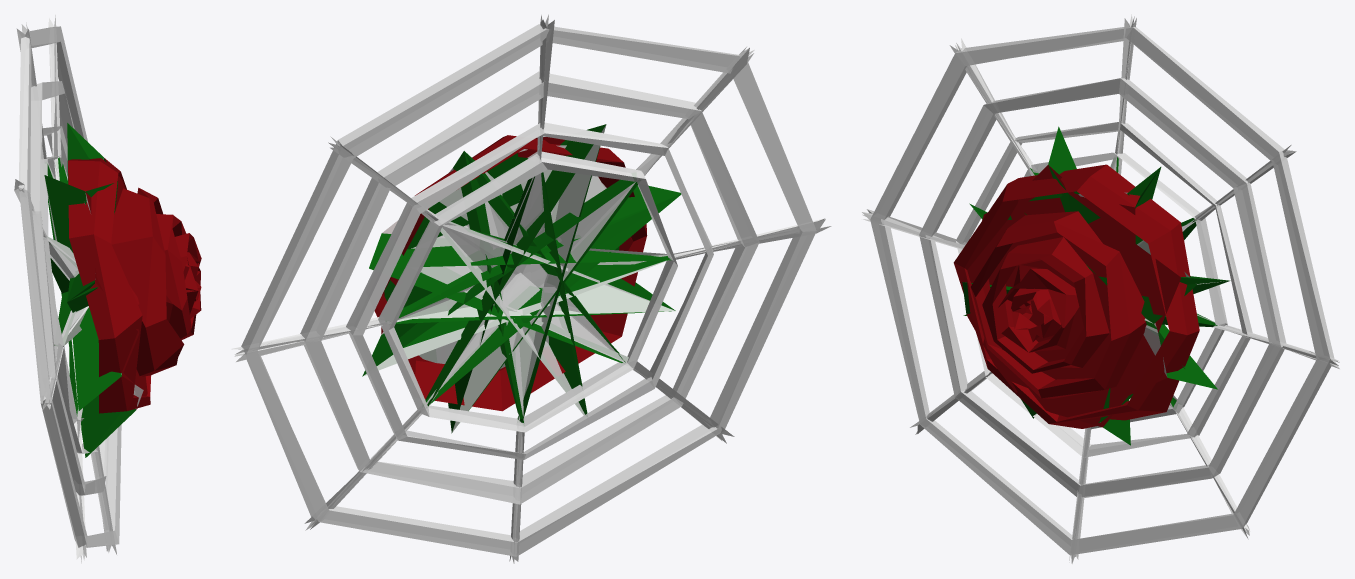
The model's file is rose web 1.fbx.
The picture shows the model from 3 angles, left to right: view 1: azimuth 30°, elevation 25°; view 2: azimuth 150°, elevation 25°; view 3: azimuth 270°, elevation 25°; orthographic projection. The views are drawn at different scales.
Parts seen in each view (by area): view 1: Cylinder.088; view 2: Cylinder.088; view 3: Cylinder.088.
Boxes of the visible parts, x1=… form: Cylinder.088: x1=14, y1=15, x2=201, y2=563; Cylinder.088: x1=232, y1=14, x2=831, y2=563; Cylinder.088: x1=862, y1=14, x2=1339, y2=563.
Size of the model in its own units: 295 by 504 by 421.
